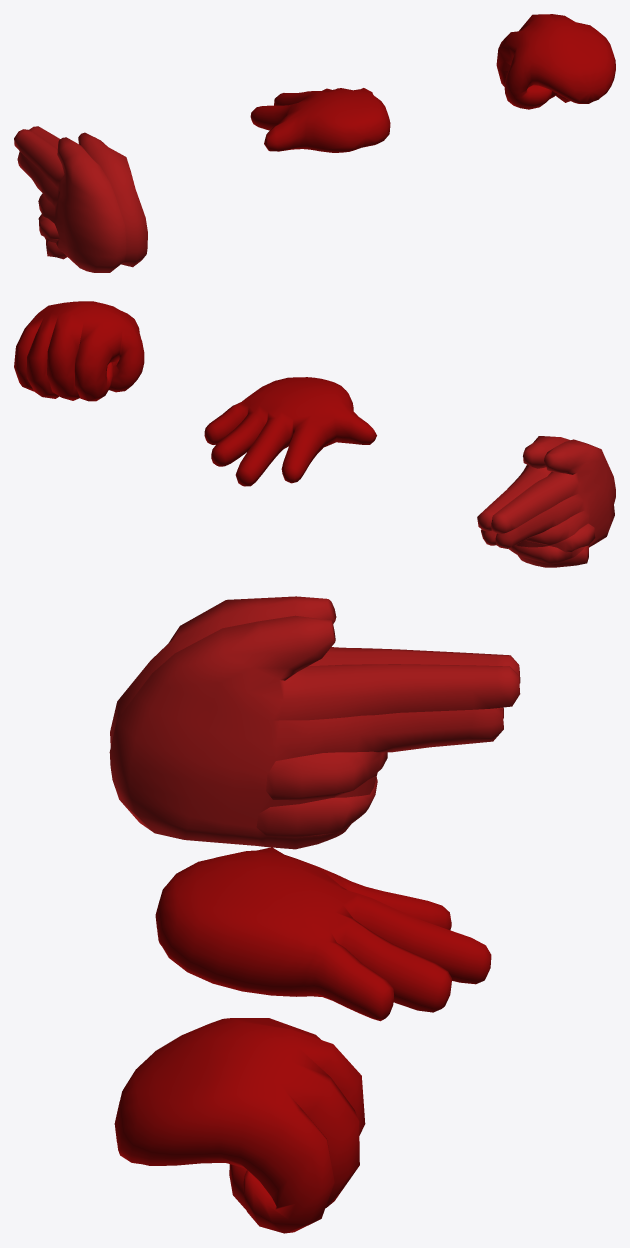
Rendered from hands_re-export.glb.
3 renders of one model, top to bottom at view 1: azimuth 30°, elevation 25°; view 2: azimuth 150°, elevation 25°; view 3: azimuth 270°, elevation 25°, orthographic. The views are drawn at different scales.
Parts seen in each view (by area): view 1: KanchoProd.001, Fist.004, SlapHand.005; view 2: KanchoProd.001, SlapHand.005, Fist.004; view 3: KanchoProd.001, SlapHand.005, Fist.004.
Part boxes in pixels (x1=…): KanchoProd.001: x1=14, y1=126, x2=147, y2=272; Fist.004: x1=496, y1=14, x2=615, y2=109; SlapHand.005: x1=250, y1=88, x2=390, y2=152; KanchoProd.001: x1=477, y1=436, x2=615, y2=567; SlapHand.005: x1=204, y1=377, x2=376, y2=486; Fist.004: x1=14, y1=301, x2=144, y2=401; KanchoProd.001: x1=109, y1=596, x2=520, y2=849; SlapHand.005: x1=155, y1=847, x2=491, y2=1021; Fist.004: x1=114, y1=1018, x2=365, y2=1233.
Size of the model in its own units: 2.67 by 0.5773 by 0.8619.
